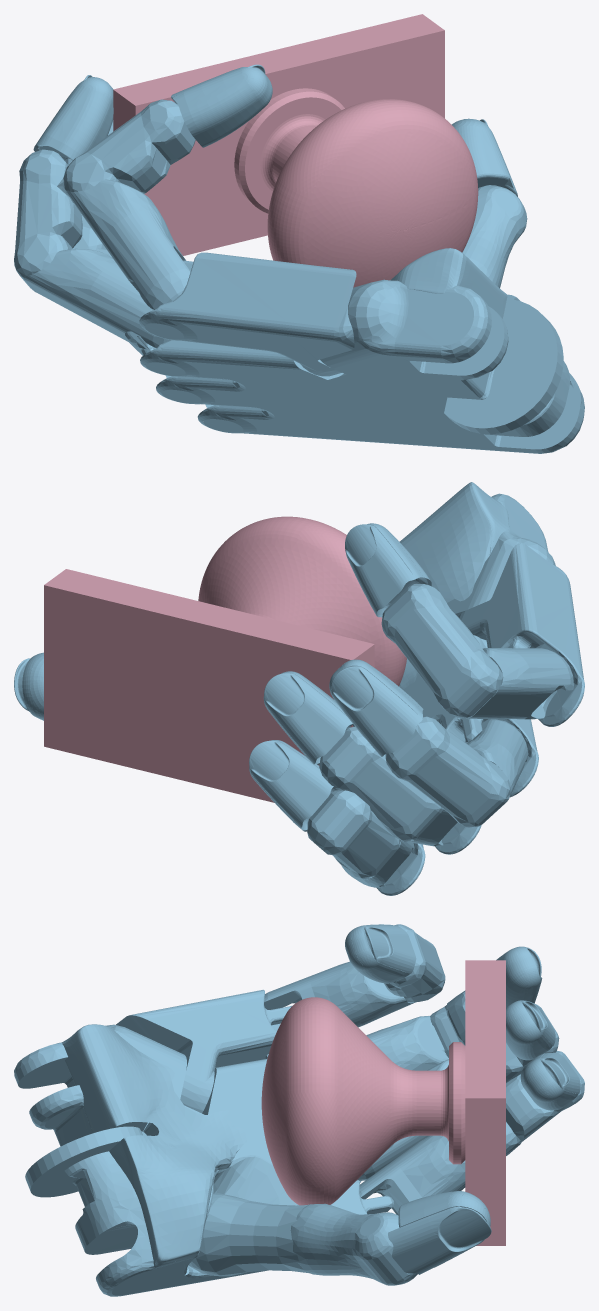
3 views of the same model, one above another, from view 1: azimuth 30°, elevation 25°; view 2: azimuth 150°, elevation 25°; view 3: azimuth 270°, elevation 25° (orthographic). The views are drawn at different scales.
Parts seen in each view (by area): view 1: world; view 2: world; view 3: world.
Boxes of the visible parts, x1=… form: world: x1=14, y1=14, x2=584, y2=453; world: x1=14, y1=482, x2=584, y2=895; world: x1=14, y1=924, x2=584, y2=1296.
Size of the model in its own units: 0.1543 by 0.1122 by 0.1752.
